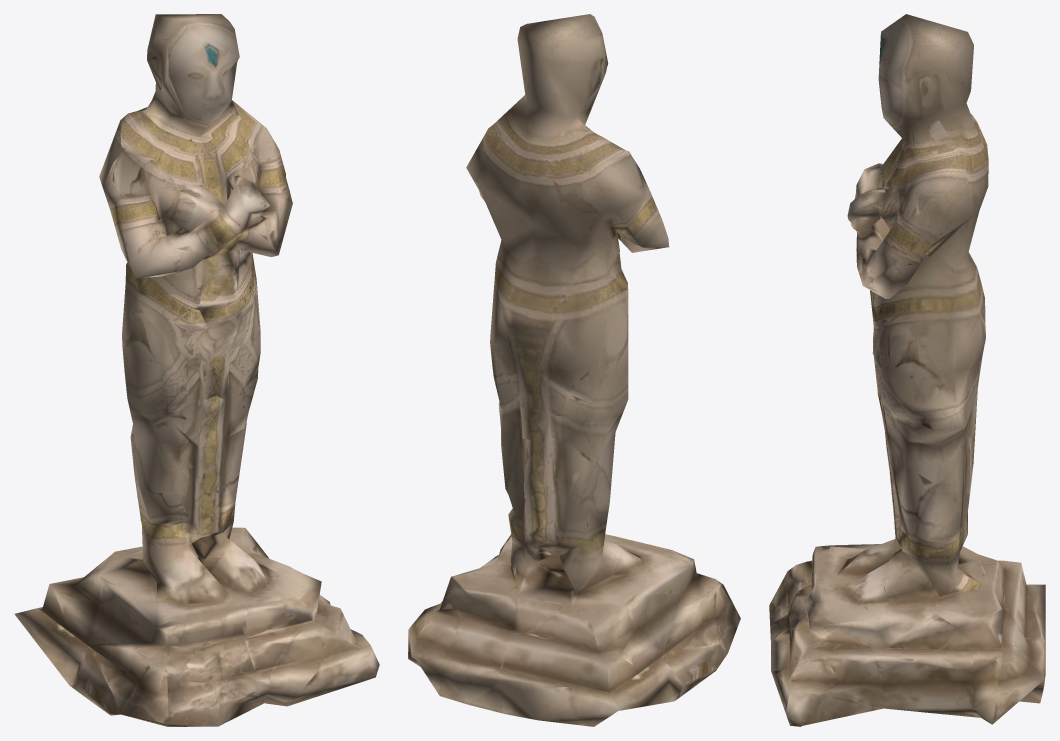
Rendered from idole_lod.glb.
3 renders of one model, left to right at view 1: azimuth 30°, elevation 25°; view 2: azimuth 150°, elevation 25°; view 3: azimuth 270°, elevation 25°, orthographic.
Bounding box in the file's own units: 0.7175 × 1.88 × 0.7253.
1 material, 1 textured.
